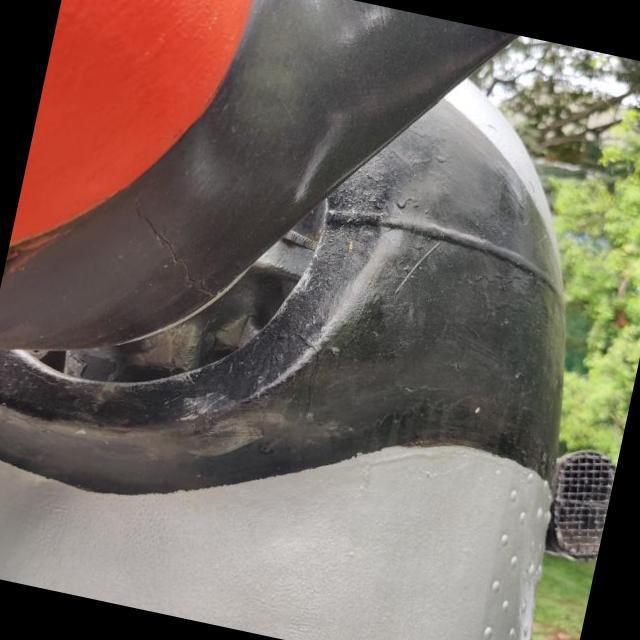Rupture: (104, 189, 240, 312)
